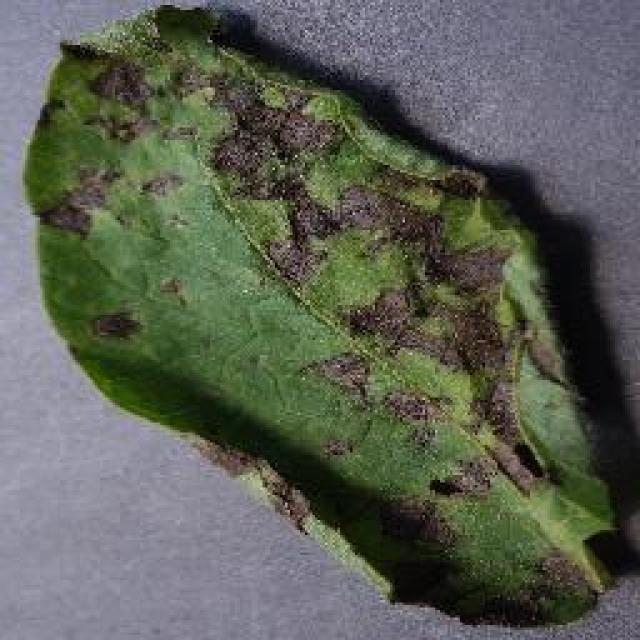early_blight: (17, 0, 624, 632)
